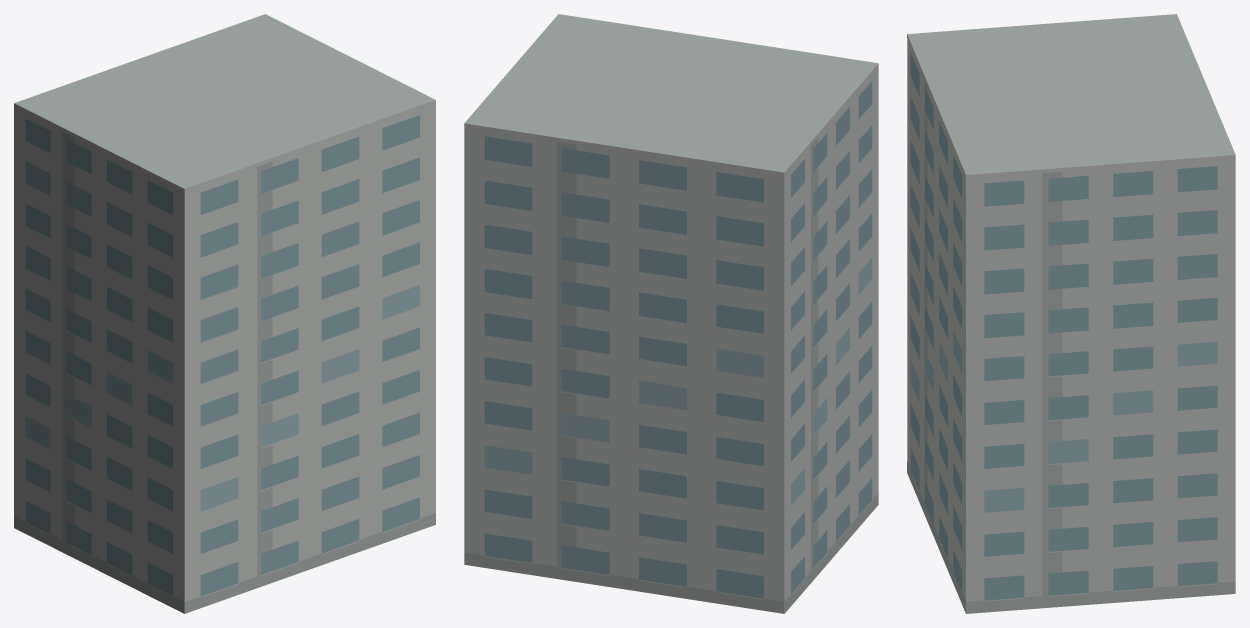
File: residential-2002bb27-f0c0-4bd4-a345-b3b3795fa62a.glb
3 renders of one model, left to right at view 1: azimuth 30°, elevation 25°; view 2: azimuth 150°, elevation 25°; view 3: azimuth 270°, elevation 25°, orthographic. The views are drawn at different scales.
Visible parts, largest first — view 1: residential-2002bb27-f0c0-4bd4-a345-b3b3795fa62a.tmp; view 2: residential-2002bb27-f0c0-4bd4-a345-b3b3795fa62a.tmp; view 3: residential-2002bb27-f0c0-4bd4-a345-b3b3795fa62a.tmp.
Part boxes in pixels (x1,y1,x2,y2): residential-2002bb27-f0c0-4bd4-a345-b3b3795fa62a.tmp: (14, 14, 435, 613); residential-2002bb27-f0c0-4bd4-a345-b3b3795fa62a.tmp: (464, 14, 878, 613); residential-2002bb27-f0c0-4bd4-a345-b3b3795fa62a.tmp: (907, 14, 1235, 613).
Bounding box in the file's own units: 22.05 × 28 × 19.01.
